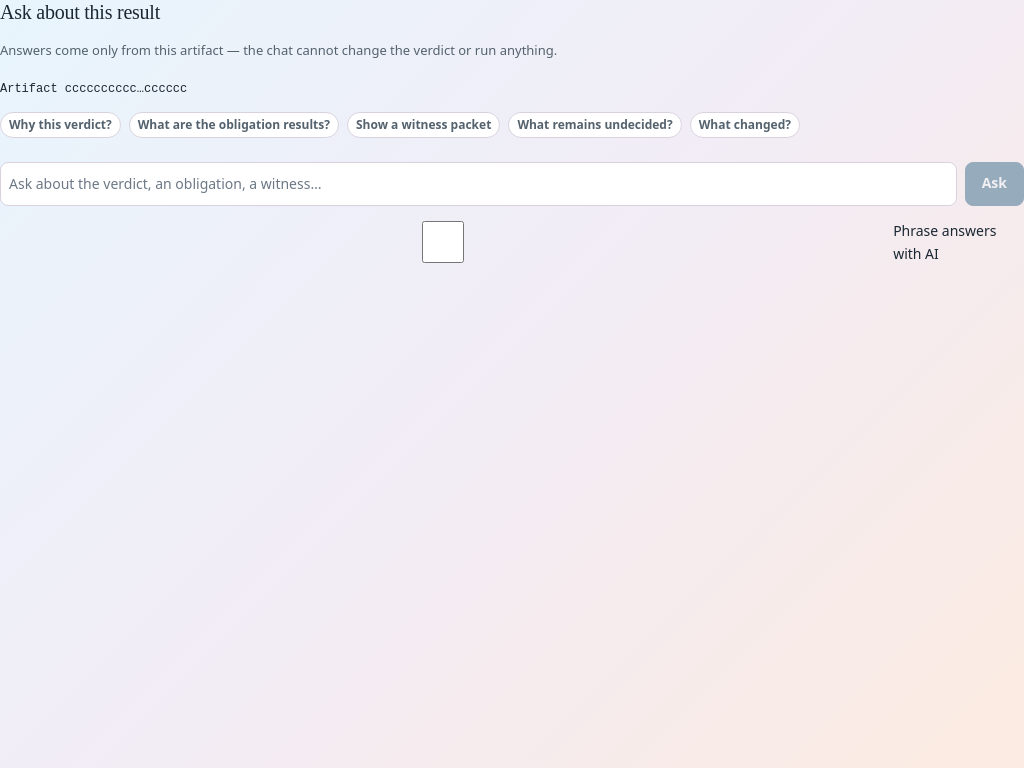
P1-10 interrogation chat panel › shows the not-configured notice and keeps the deterministic answer primary
Click the checkbox labelled "Phrase answers with AI" at (443, 242), box [4, 221, 882, 263]
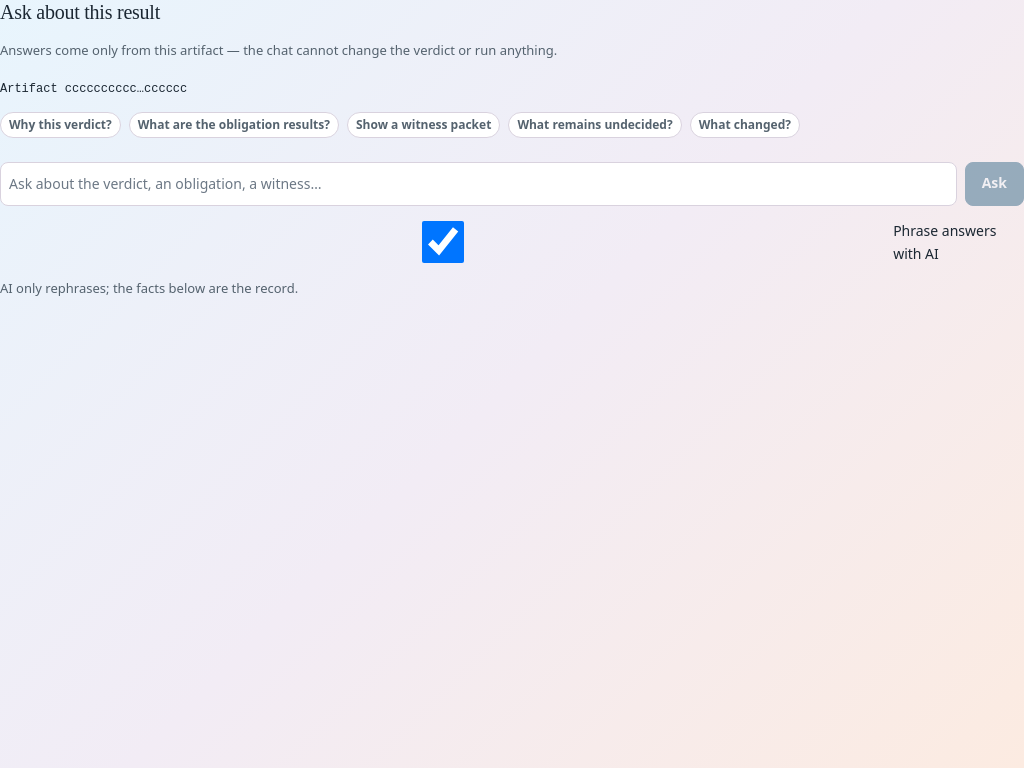
Type "Why DIFFERENT?" into the field with placeholder "Ask about the verdict, an obligation, a witness…" at (478, 184), box [0, 162, 957, 206]
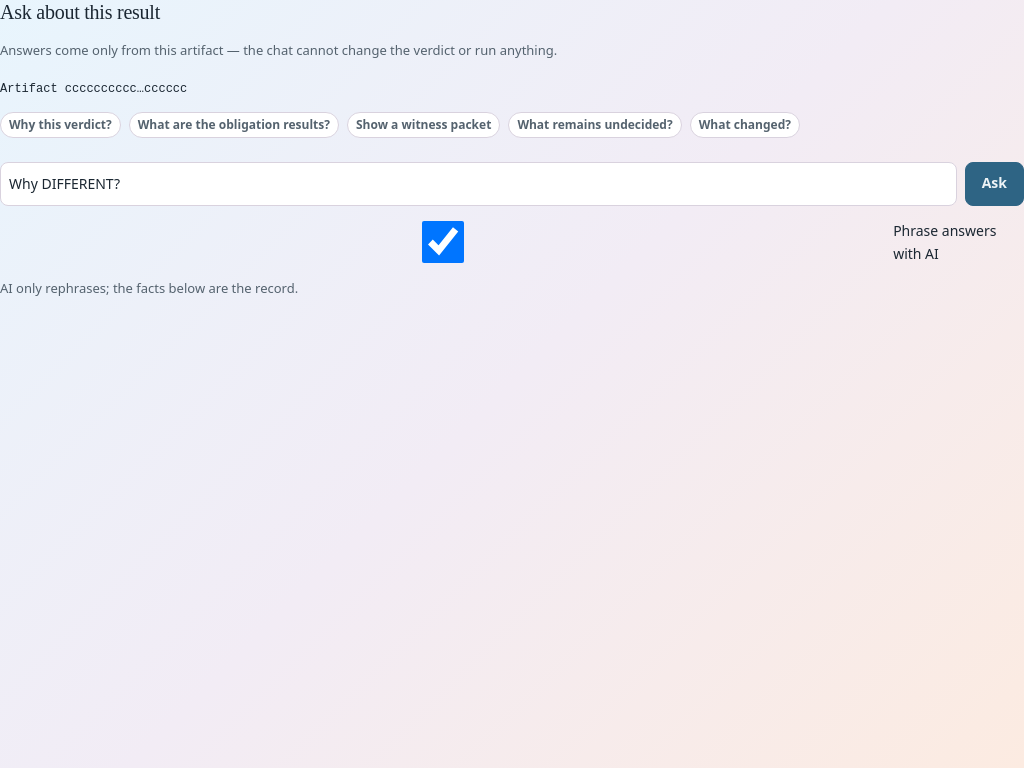
Click the button "Ask" at (994, 184), box [965, 162, 1023, 206]
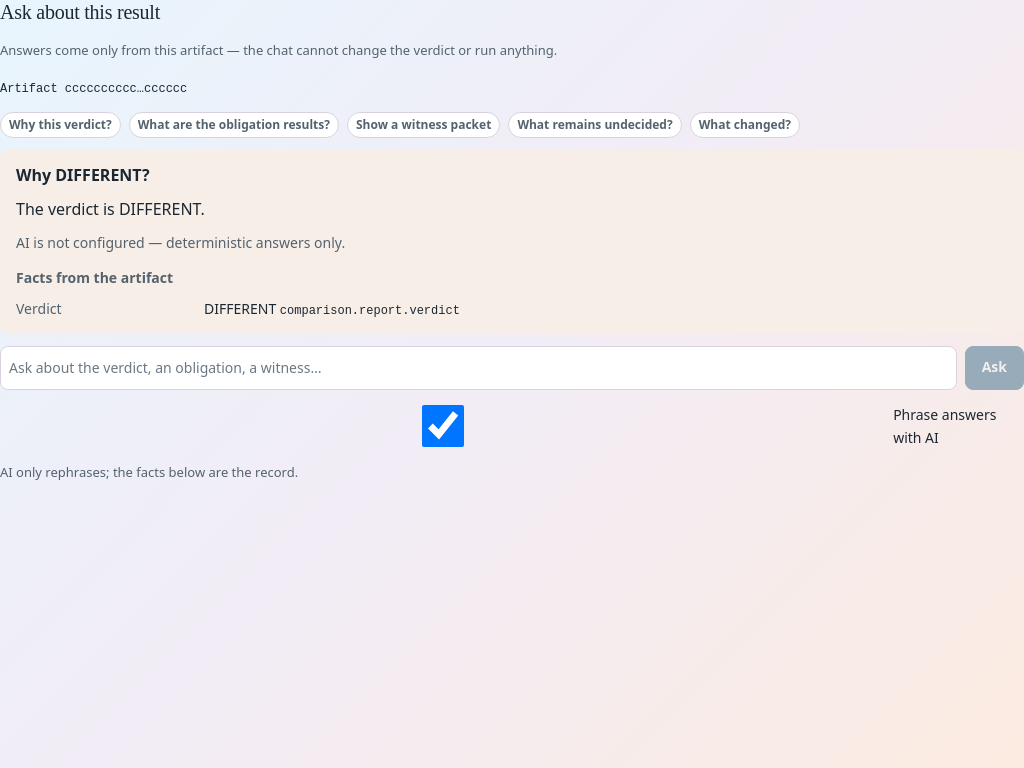
Expected: the text "AI is not configured — deterministic answers only." is shown, [16, 233, 345, 252]
Expected: the text "The verdict is DIFFERENT." is shown, [16, 198, 205, 220]
